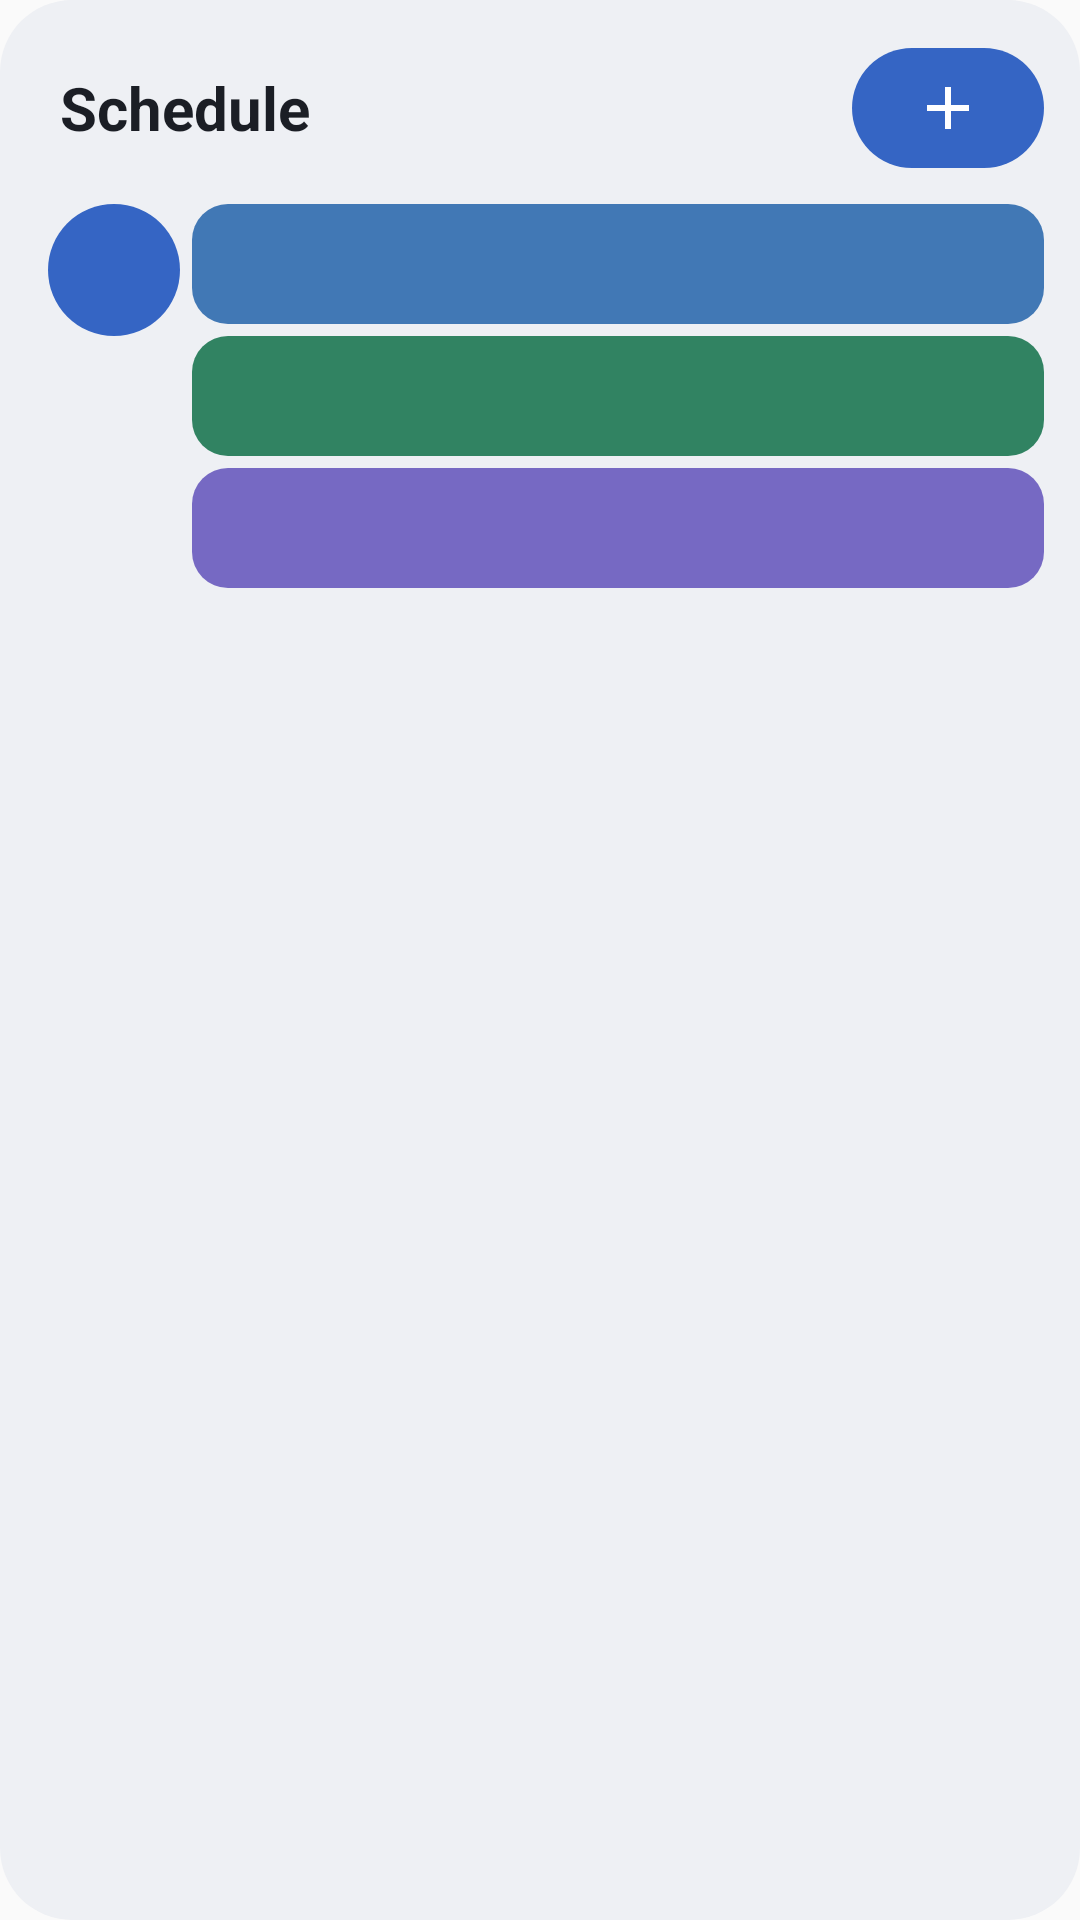

Locate icon controls on the screen. Image size 1080w x 1920h, boxes as detection(x1, y1, x2, y2).
widget add: detection(852, 48, 1044, 168)
